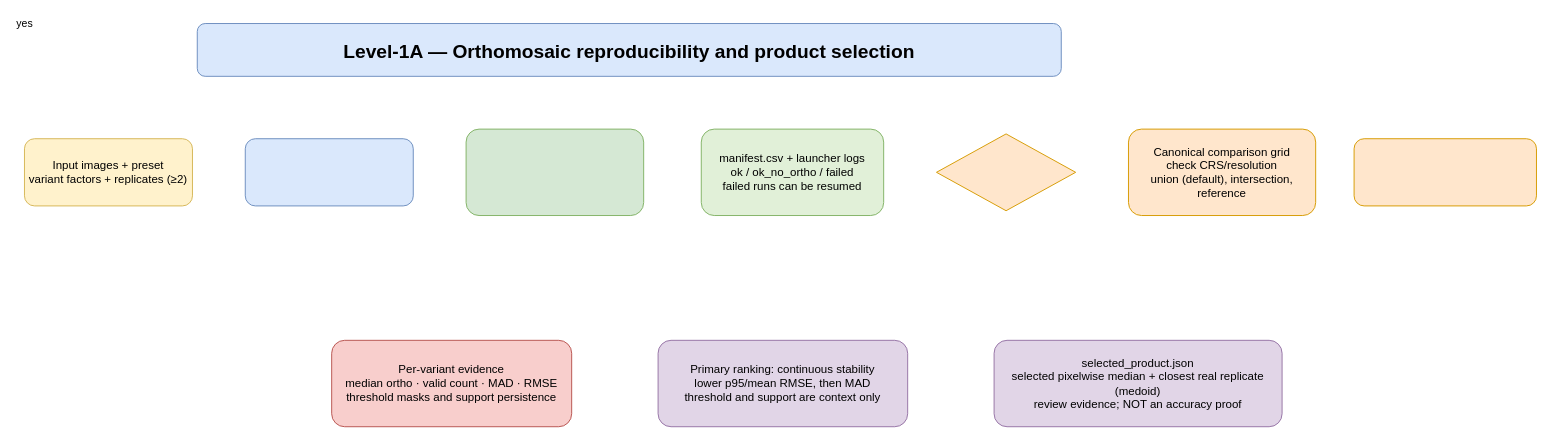
The diagram is 1553 pixels wide and 444 high, and some of its shapes have lost their labels. Each missing label, with the centre of its shape:
"Eligible rows? status = ok AND TIFF exists" belongs at point (1006, 172).
"Prepare experiment config.yml + variants.csv" belongs at point (328, 172).
"Run / resume each variant × replicate Metashape build and export" belongs at point (554, 172).
"Warp/align orthomosaics exclude nodata, masks and all-zero RGB" belongs at point (1444, 172).
